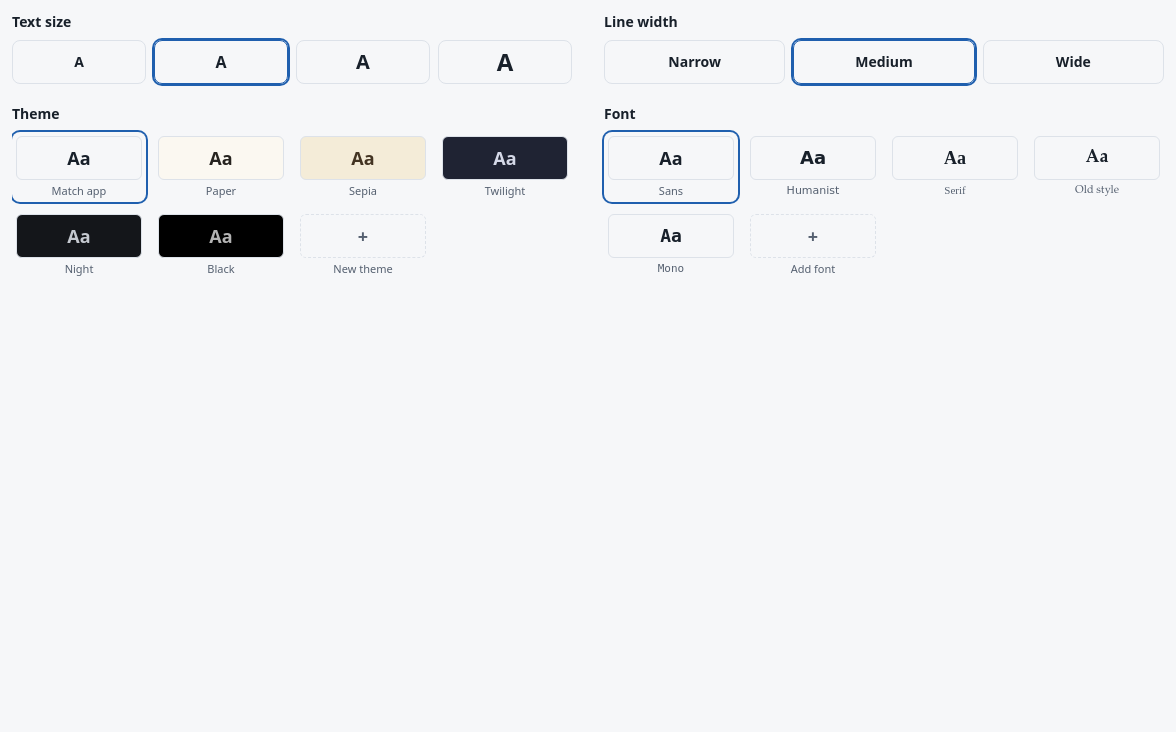
Test: ReaderSettings › fonts › offers Delete only for the selected custom font
Click the button "+ Add font".
click(813, 245)  # box [746,210,880,280]
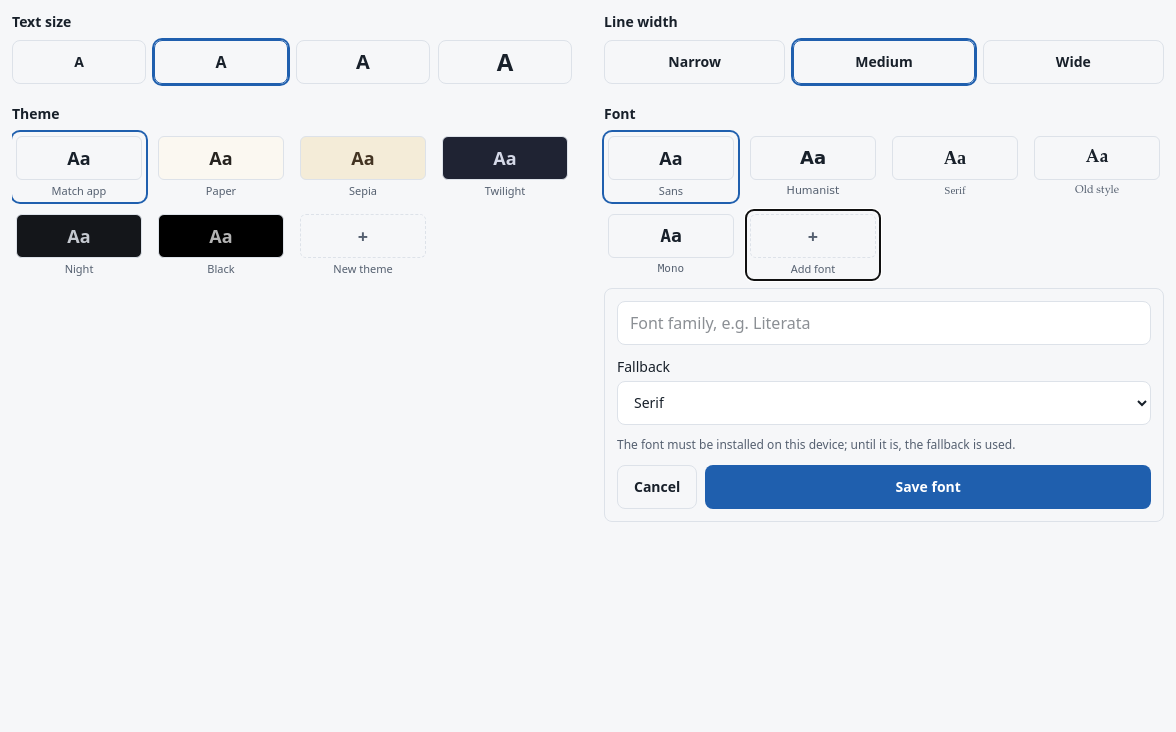
Type "Literata" into the field labelled "Font family".
click(884, 322); type("Literata")  # box [617,300,1151,344]
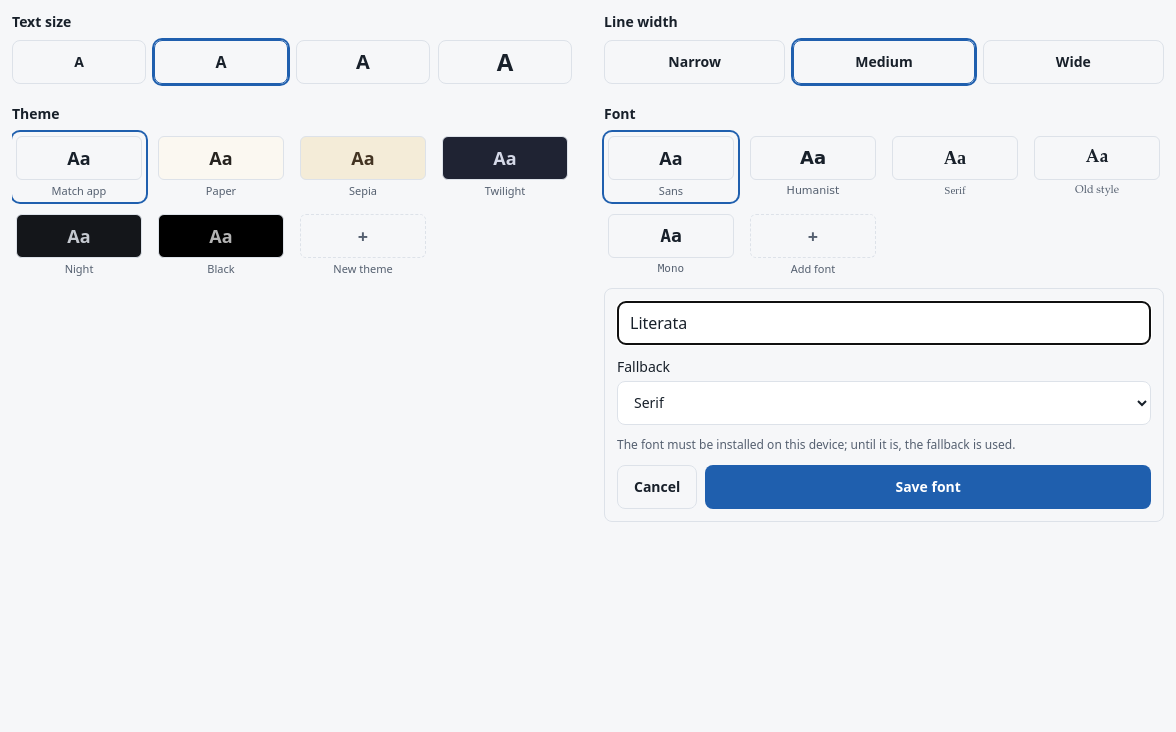
Click the button "Save font".
click(928, 486)  # box [705,464,1151,508]
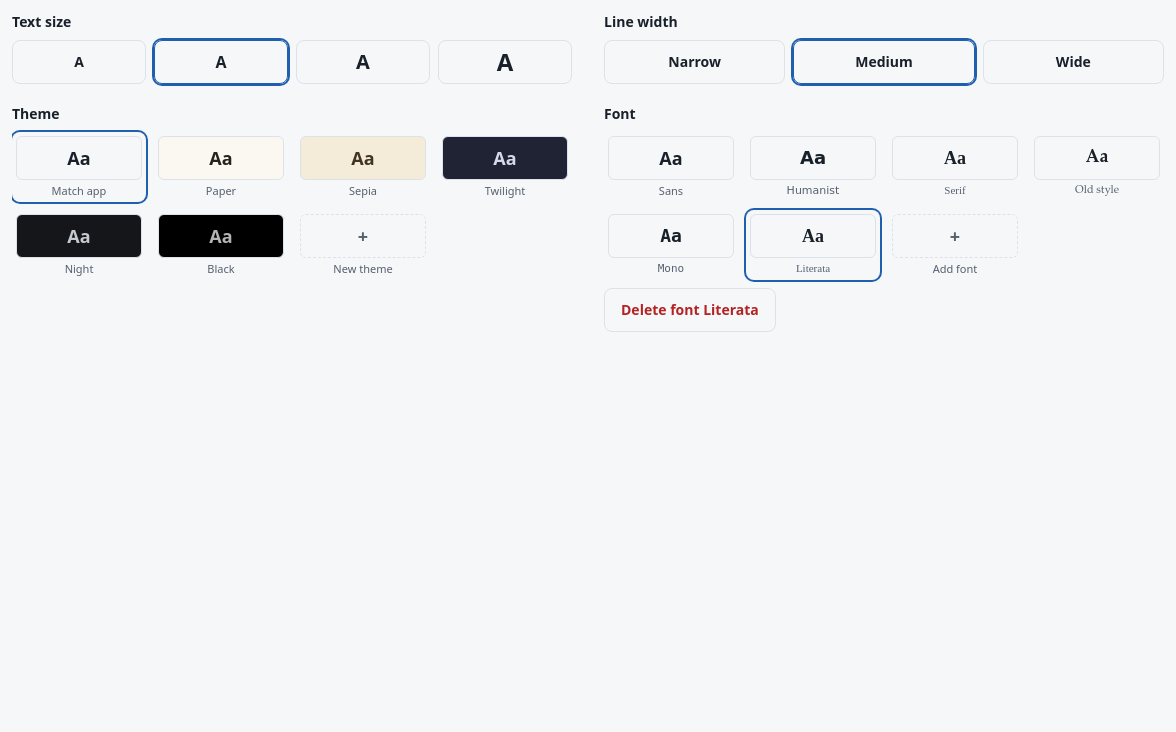
Expected: the button "Delete font Literata" is shown, [604,288,776,332]
Click the button "Aa Serif".
click(955, 167)  # box [888,132,1022,202]
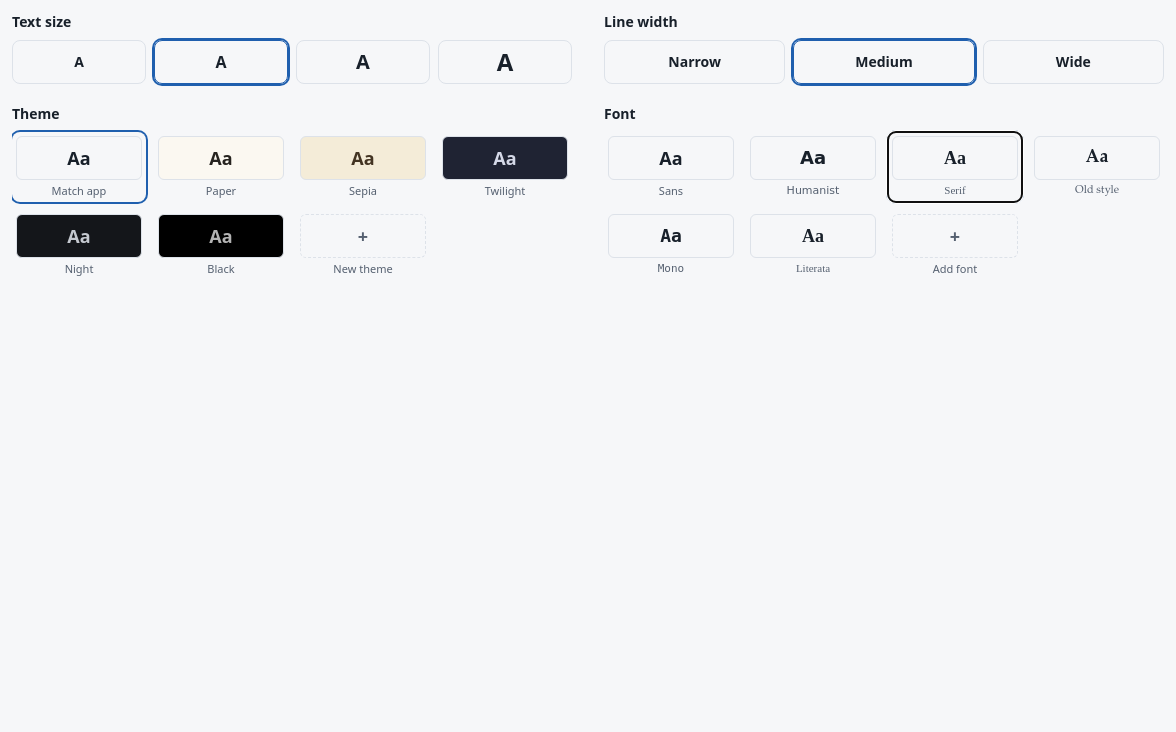
Expected: the button "Delete font Literata" is gone
